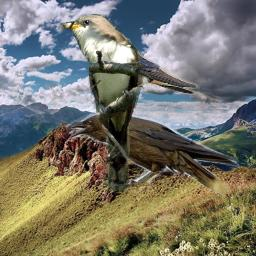Crow: (64, 109, 240, 194)
Cuckoo: (58, 14, 144, 192)
Swallow: (112, 36, 223, 102)
